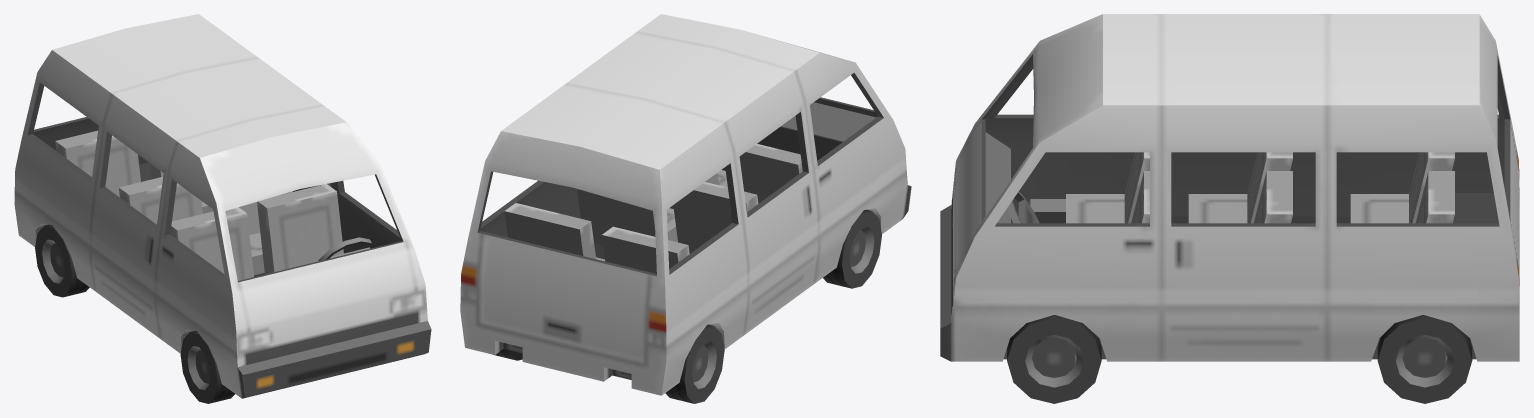
Rendered from Car_003.FBX.
3 views of the same model, side by side, from view 1: azimuth 30°, elevation 25°; view 2: azimuth 150°, elevation 25°; view 3: azimuth 270°, elevation 25° (orthographic). The views are drawn at different scales.
Parts seen in each view (by area): view 1: Car_003, Car_003_Rear_Wheel, Car_003_Right_Wheel; view 2: Car_003, Car_003_Rear_Wheel, Car_003_Right_Wheel; view 3: Car_003, Car_003_Rear_Wheel, Car_003_Left_Wheel.
Boxes of the visible parts, <box> form: Car_003: <box>14,14,431,398</box>; Car_003_Rear_Wheel: <box>35,224,89,297</box>; Car_003_Right_Wheel: <box>180,331,234,403</box>; Car_003: <box>460,14,911,395</box>; Car_003_Rear_Wheel: <box>493,324,724,403</box>; Car_003_Right_Wheel: <box>823,209,881,288</box>; Car_003: <box>940,14,1519,361</box>; Car_003_Rear_Wheel: <box>1377,315,1472,403</box>; Car_003_Left_Wheel: <box>1007,315,1101,403</box>.
Size of the model in its own units: 159 by 330 by 183.
